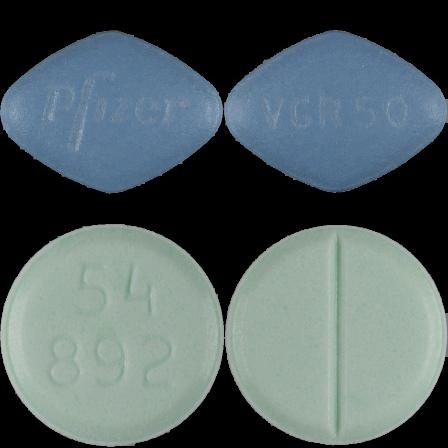55289-577: (0, 0, 224, 224)
